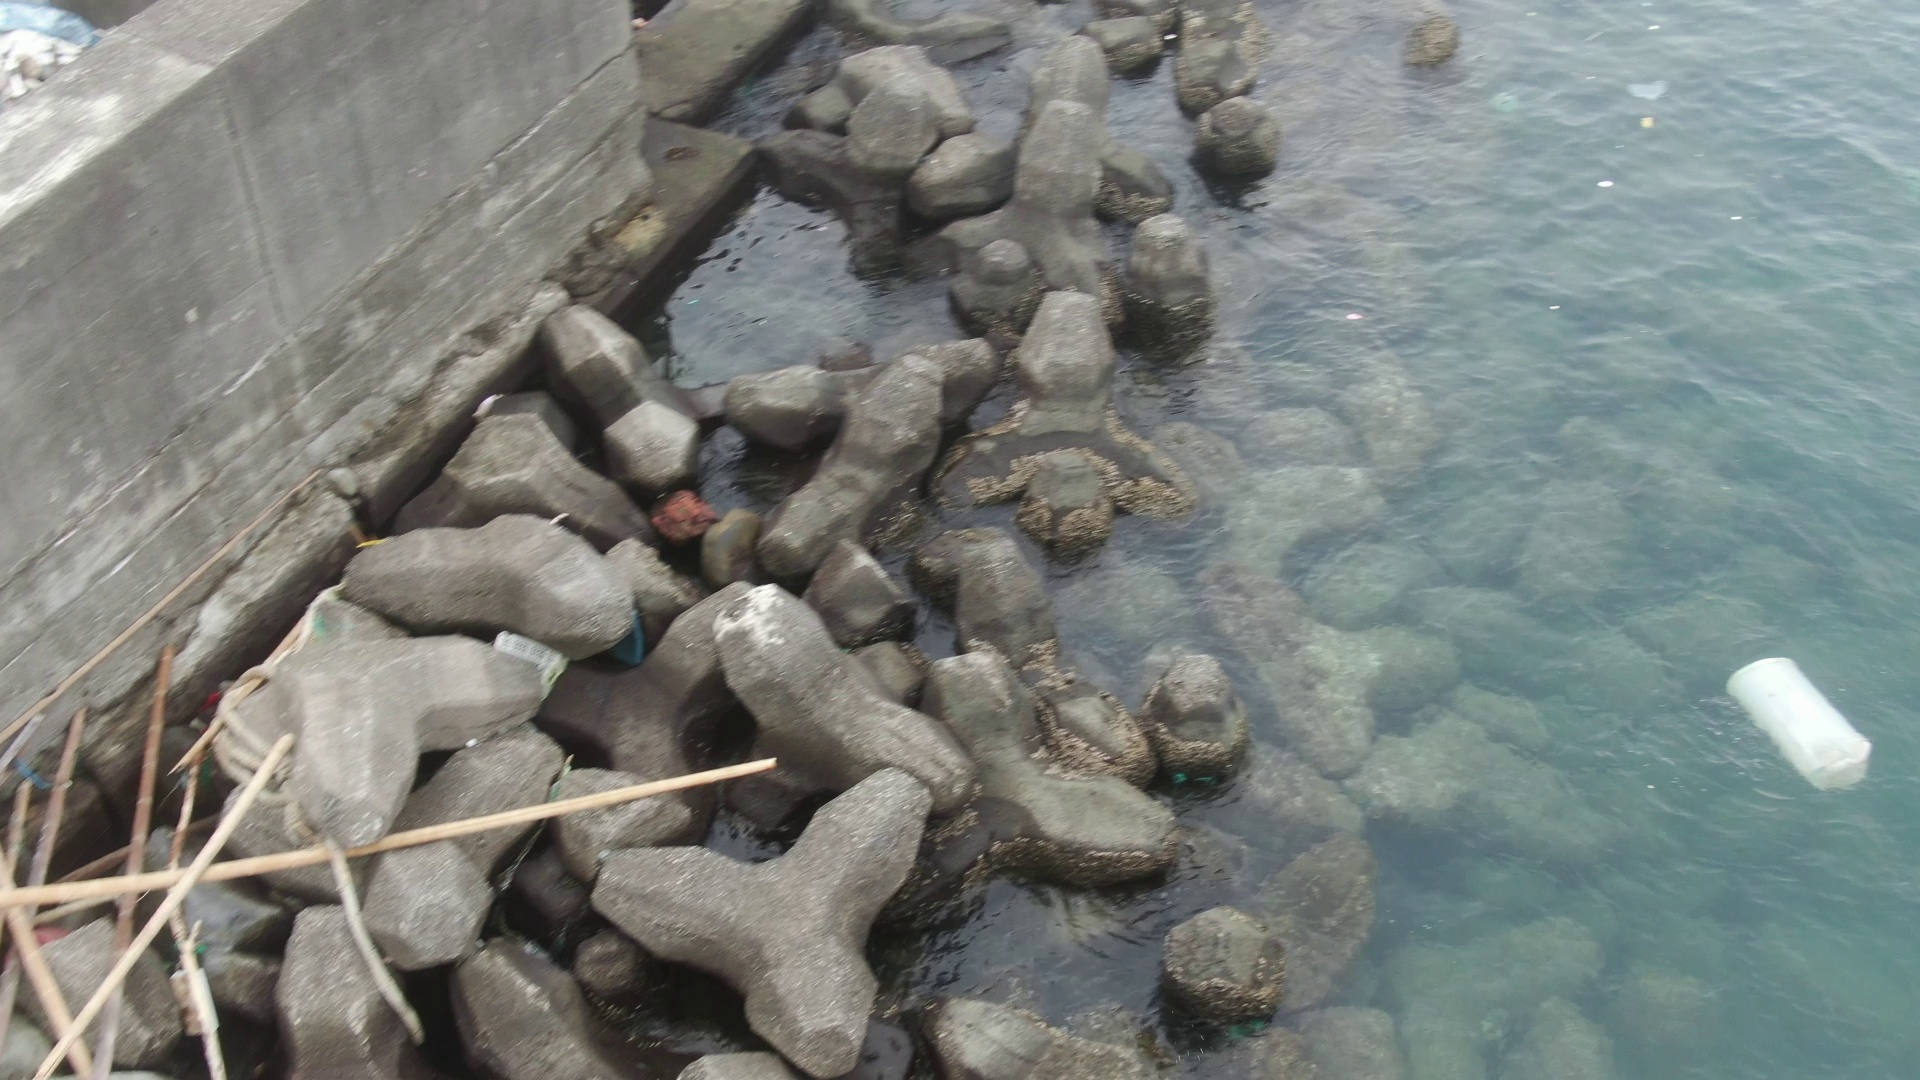garbage: (1718, 645, 1876, 790), (487, 626, 575, 698), (170, 960, 232, 1038), (603, 599, 655, 667)
